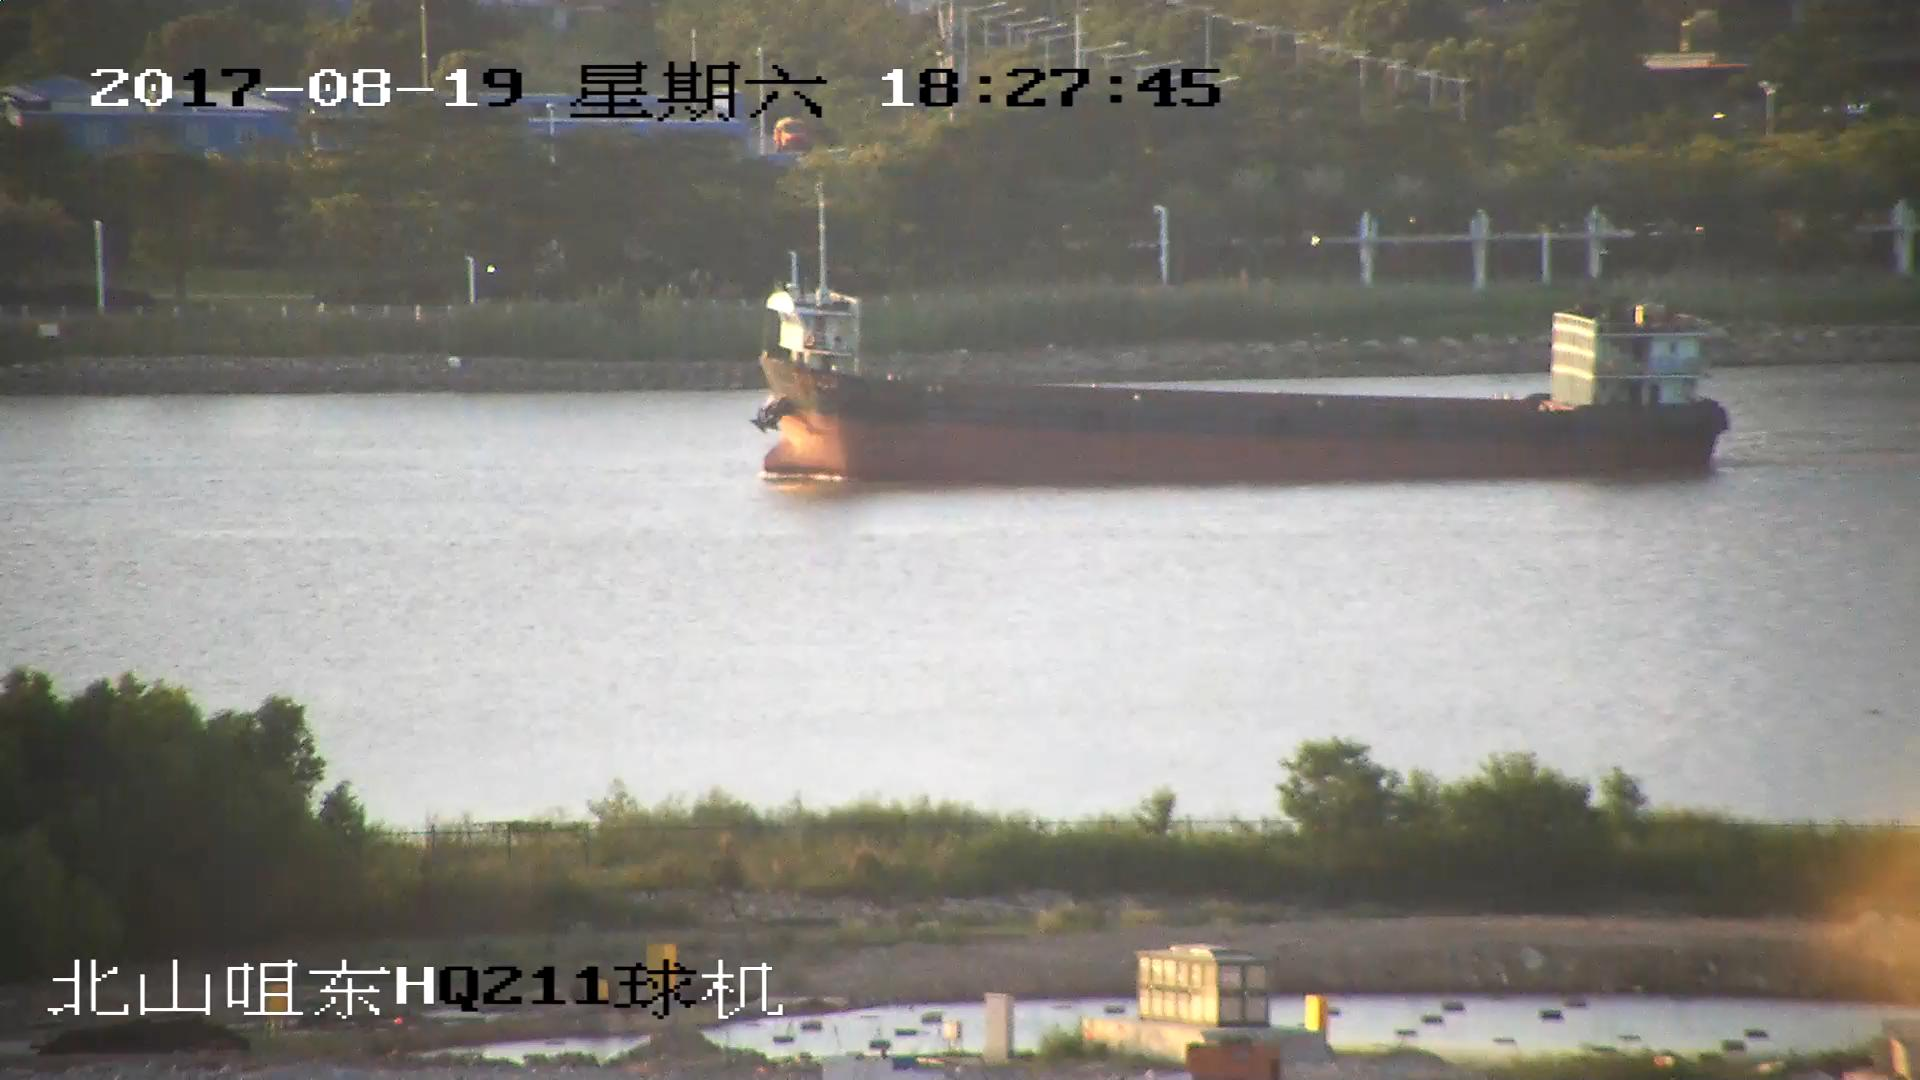general cargo ship: (753, 283, 1725, 473)
